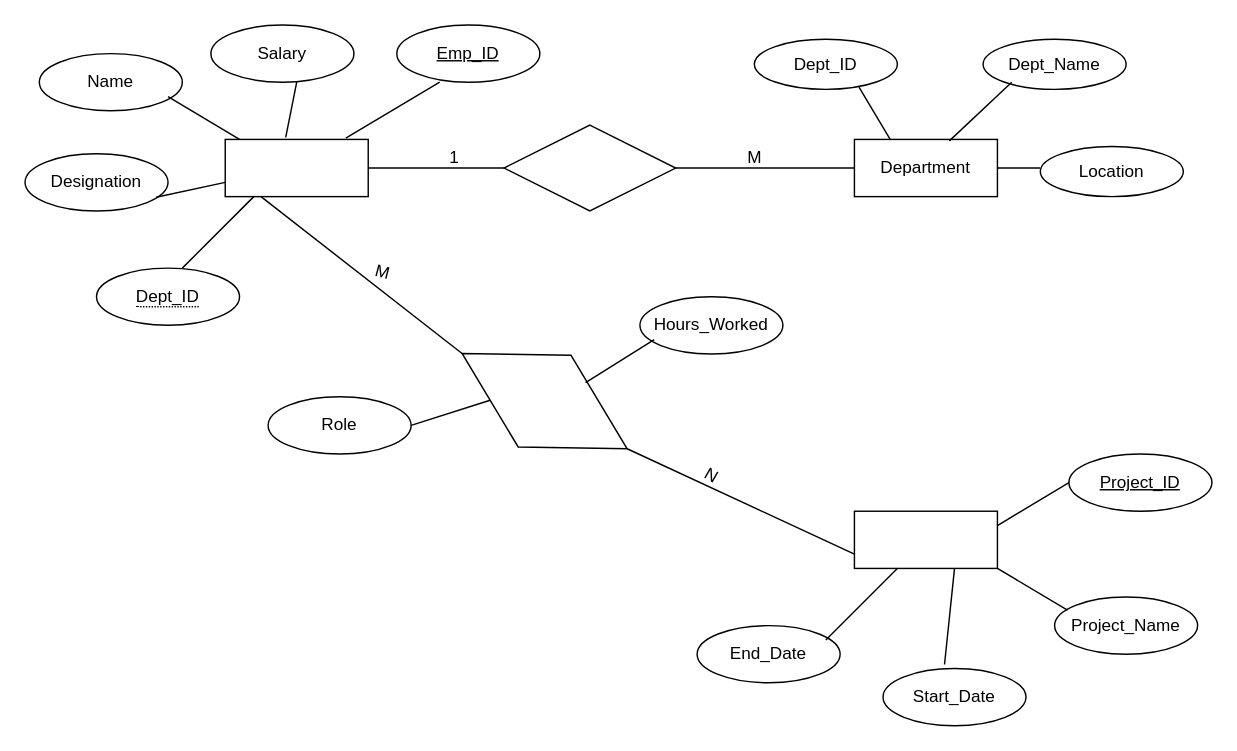
The diagram is 1237 pixels wide and 751 high, and some of its shapes have lost their labels. The centre of each missing label's shape, as x and y in pixels:
"Belongs to" belongs at [589,167].
"Employee" belongs at [296,167].
"Employee_Project" belongs at [544,400].
"Project" belongs at [925,539].
